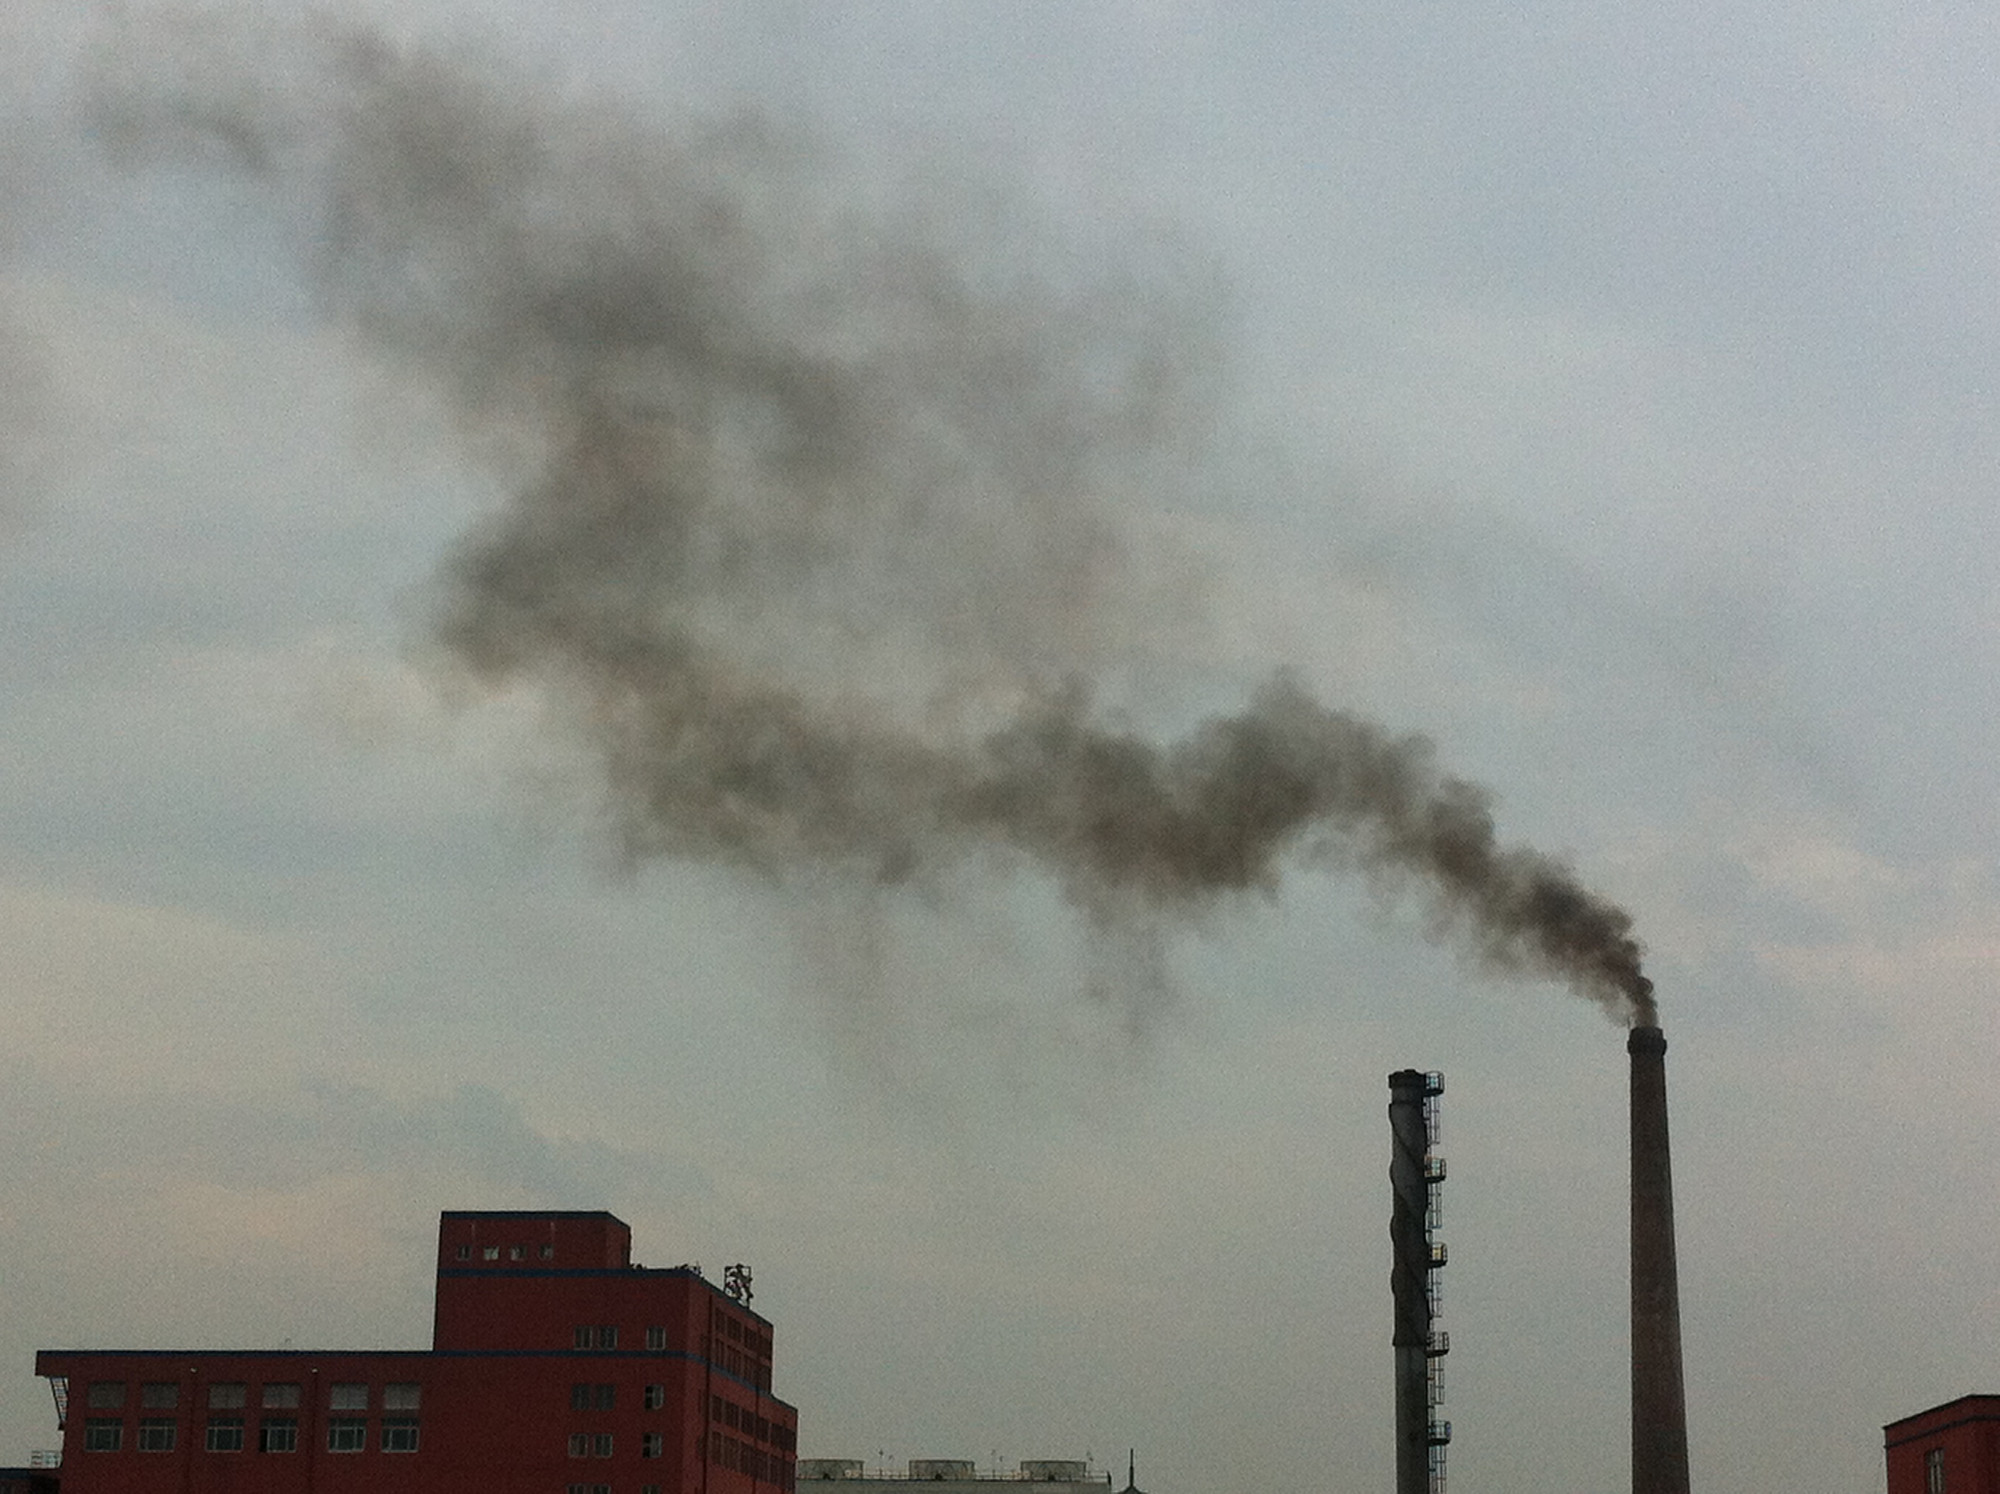dust: (1195, 728, 1776, 1058)
